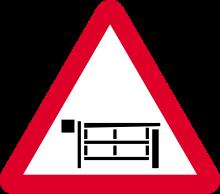Barrier Ahead: (10, 13, 211, 189)
